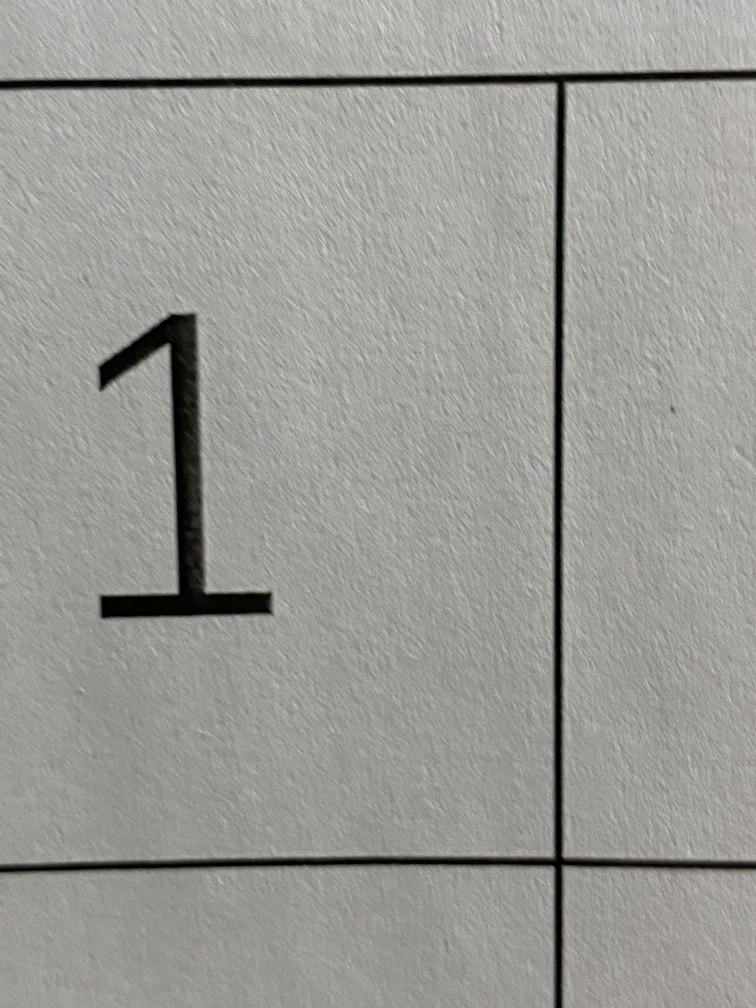one: (70, 278, 302, 692)
